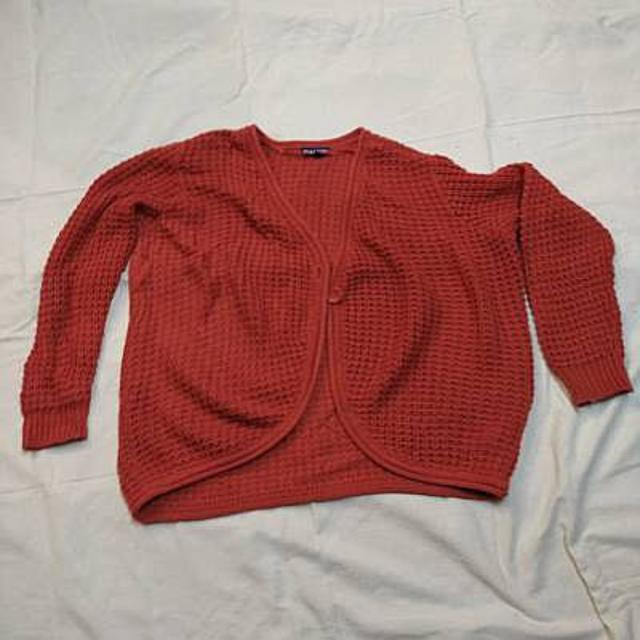SHIRT: (5, 115, 640, 529)
